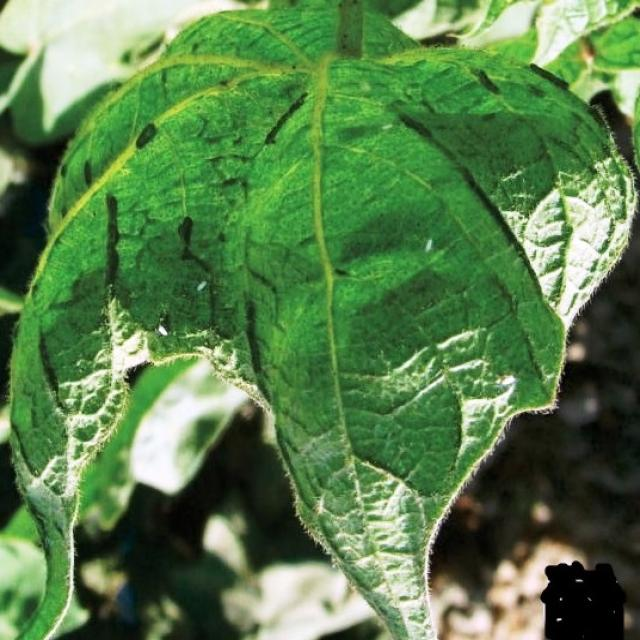Leaf Curl Virus: (98, 79, 418, 423)
